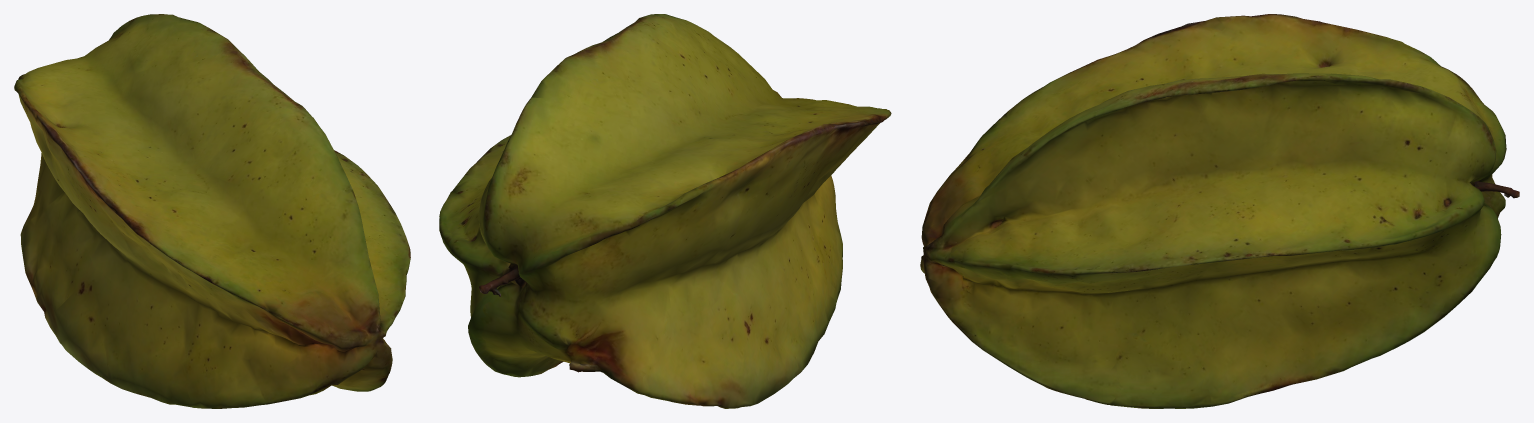
Rendered from carambola.glb.
3 views of the same model, side by side, from view 1: azimuth 30°, elevation 25°; view 2: azimuth 150°, elevation 25°; view 3: azimuth 270°, elevation 25° (orthographic). The views are drawn at different scales.
Parts seen in each view (by area): view 1: Object_2; view 2: Object_2; view 3: Object_2.
Boxes of the visible parts, x1,y1,x2,y2 form: Object_2: (14,14,410,408); Object_2: (439,14,891,408); Object_2: (920,14,1519,408).
Bounding box in the file's own units: 3.48 × 3.34 × 5.7.
Materials: 1 (1 with a texture image).
